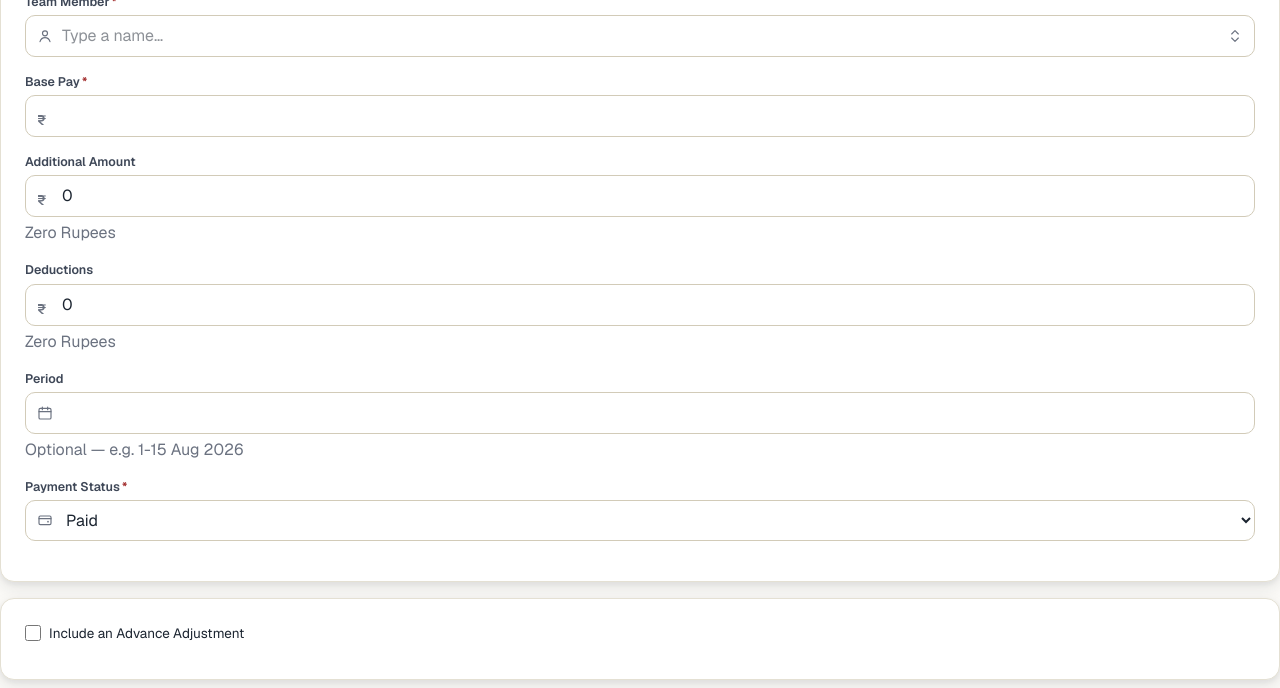
Test: PaymentForm › reveals the Advance Adjustment section, scoped to the selected Team Member, when the checkbox is checked
Type "ravi" into the dropdown labelled "Team Member" at (640, 36), box top-left (25, 15), bottom-right (1255, 57)
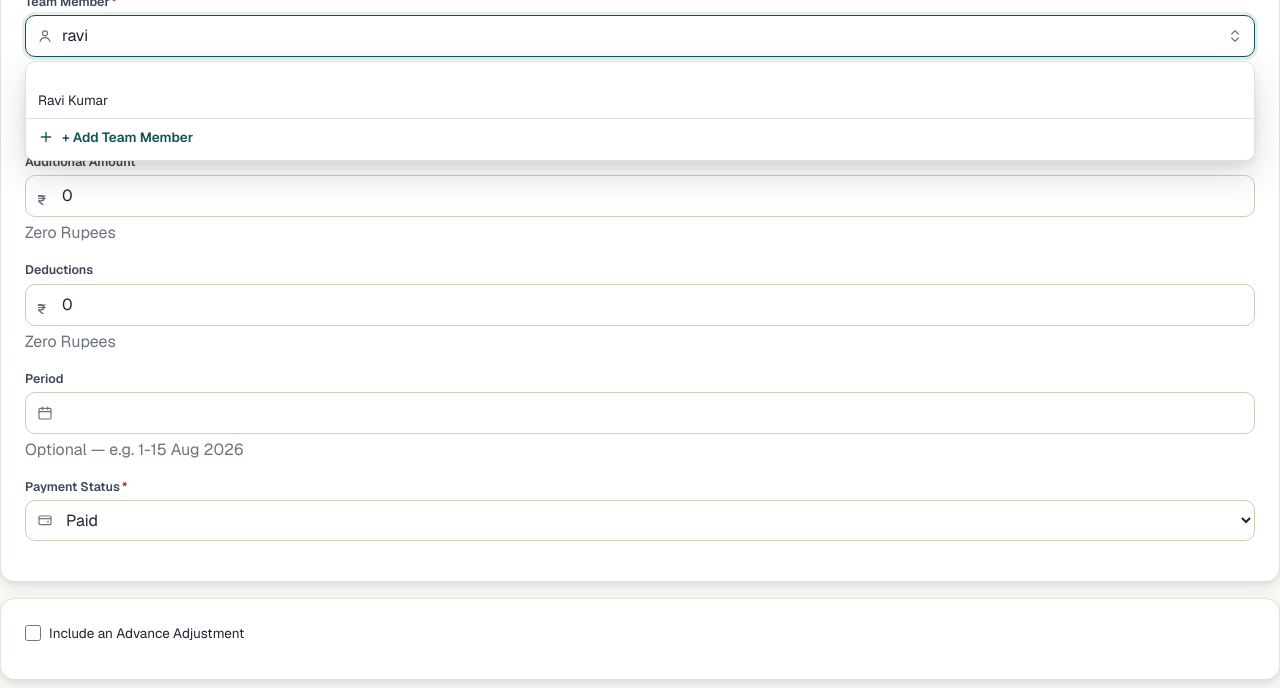
Click the option "Ravi Kumar" at (73, 100), box top-left (38, 91), bottom-right (108, 109)
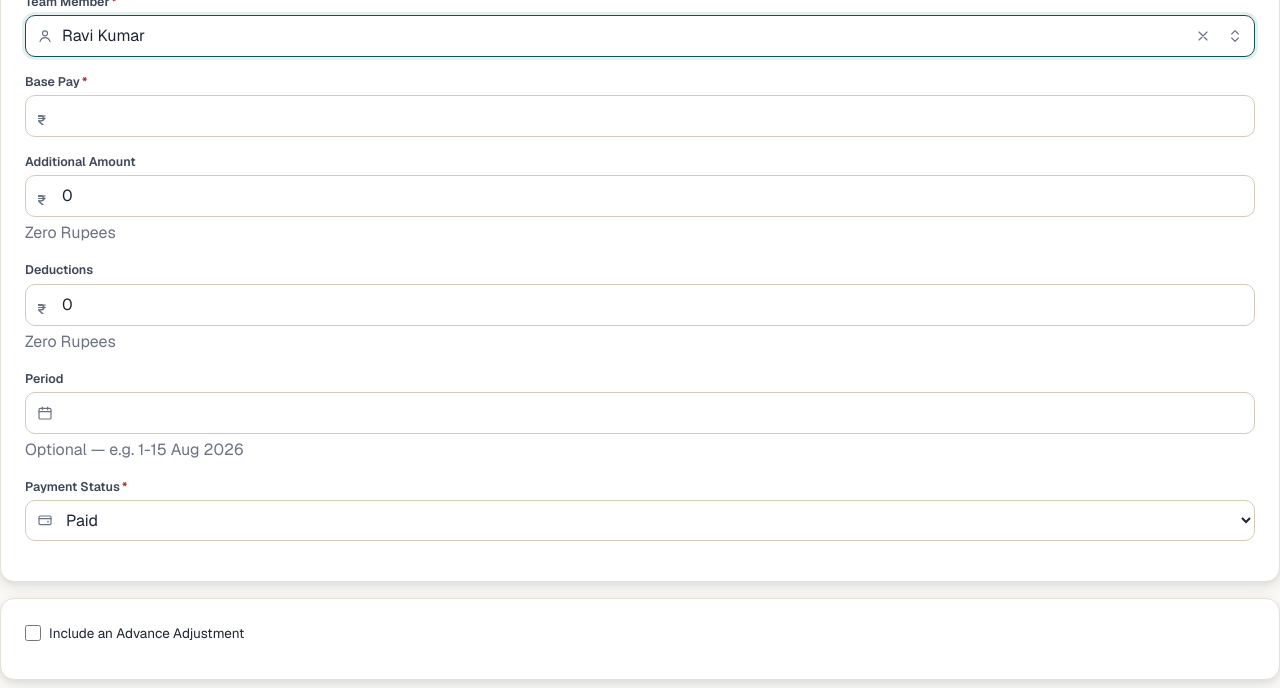
Click the checkbox labelled "Include an Advance Adjustment" at (33, 633), box top-left (25, 625), bottom-right (41, 641)
(page scrolled)
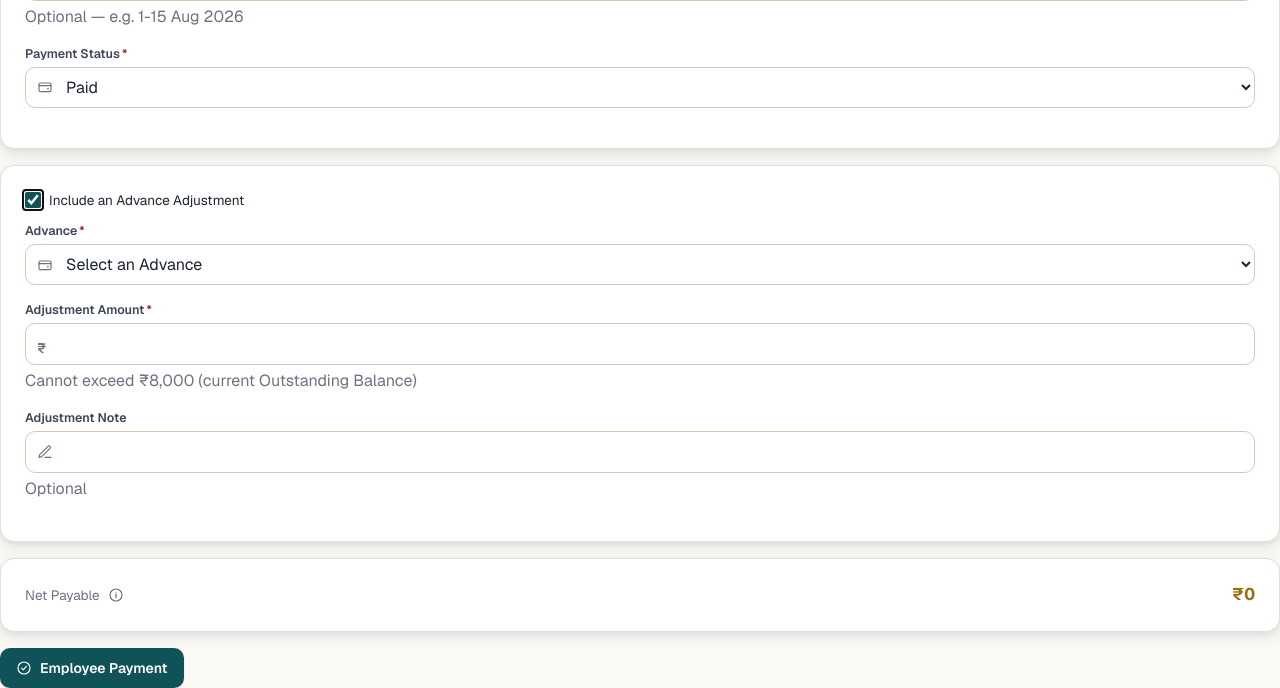
Result: the dropdown labelled "Advance" is shown at top-left (25, 244), bottom-right (1255, 285)
Result: the text "Cannot exceed ₹8,000 (current Outstanding Balance)" is shown at top-left (25, 370), bottom-right (417, 391)
